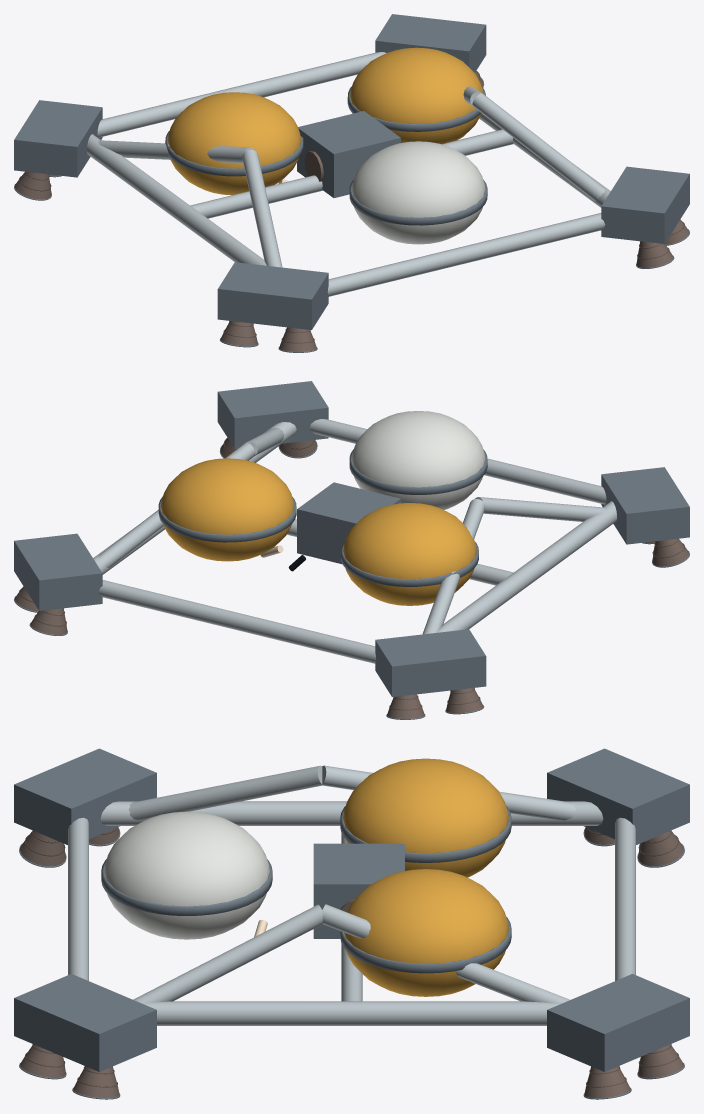
The model's file is mars_descent_stage.glb.
3 renders of one model, top to bottom at view 1: azimuth 30°, elevation 25°; view 2: azimuth 150°, elevation 25°; view 3: azimuth 270°, elevation 25°, orthographic. The views are drawn at different scales.
Visible parts, largest first — view 1: mars_descent_stage.aluminum_frame.mesh_Satin_aluminum, mars_descent_stage.propellant_tank_03.mesh_Pale_thermal_blan, mars_descent_stage.propellant_tank_01.mesh_Gold_thermal_insu, mars_descent_stage.propellant_tank_02.mesh_Gold_thermal_insu, mars_descent_stage.landing_engines_04.mesh_Machined_steel, mars_descent_stage.landing_engines_01.mesh_Machined_steel, mars_descent_stage.landing_engines_03.mesh_Machined_steel, mars_descent_stage.winch.mesh_Machined_steel, mars_descent_stage.landing_engines_02.mesh_Machined_steel, mars_descent_stage.propellant_tank_03.mesh_Machined_steel, mars_descent_stage.propellant_tank_01.mesh_Machined_steel, mars_descent_stage.propellant_tank_02.mesh_Machined_steel (+4 smaller); view 2: mars_descent_stage.aluminum_frame.mesh_Satin_aluminum, mars_descent_stage.propellant_tank_02.mesh_Gold_thermal_insu, mars_descent_stage.propellant_tank_01.mesh_Gold_thermal_insu, mars_descent_stage.propellant_tank_03.mesh_Pale_thermal_blan, mars_descent_stage.landing_engines_03.mesh_Machined_steel, mars_descent_stage.landing_engines_02.mesh_Machined_steel, mars_descent_stage.landing_engines_04.mesh_Machined_steel, mars_descent_stage.landing_engines_01.mesh_Machined_steel, mars_descent_stage.winch.mesh_Machined_steel, mars_descent_stage.propellant_tank_02.mesh_Machined_steel, mars_descent_stage.propellant_tank_03.mesh_Machined_steel, mars_descent_stage.propellant_tank_01.mesh_Machined_steel (+4 smaller); view 3: mars_descent_stage.aluminum_frame.mesh_Satin_aluminum, mars_descent_stage.propellant_tank_03.mesh_Pale_thermal_blan, mars_descent_stage.propellant_tank_02.mesh_Gold_thermal_insu, mars_descent_stage.propellant_tank_01.mesh_Gold_thermal_insu, mars_descent_stage.landing_engines_01.mesh_Machined_steel, mars_descent_stage.landing_engines_02.mesh_Machined_steel, mars_descent_stage.landing_engines_03.mesh_Machined_steel, mars_descent_stage.landing_engines_04.mesh_Machined_steel, mars_descent_stage.winch.mesh_Machined_steel, mars_descent_stage.propellant_tank_03.mesh_Machined_steel, mars_descent_stage.propellant_tank_02.mesh_Machined_steel, mars_descent_stage.propellant_tank_01.mesh_Machined_steel (+6 smaller).
Boxes of the visible parts, <box> form: mars_descent_stage.aluminum_frame.mesh_Satin_aluminum: <box>86,52,610,296</box>; mars_descent_stage.propellant_tank_03.mesh_Pale_thermal_blan: <box>351,141,485,244</box>; mars_descent_stage.propellant_tank_01.mesh_Gold_thermal_insu: <box>167,92,301,195</box>; mars_descent_stage.propellant_tank_02.mesh_Gold_thermal_insu: <box>350,47,483,144</box>; mars_descent_stage.landing_engines_04.mesh_Machined_steel: <box>217,262,328,329</box>; mars_descent_stage.landing_engines_01.mesh_Machined_steel: <box>601,166,689,243</box>; mars_descent_stage.landing_engines_03.mesh_Machined_steel: <box>14,100,102,177</box>; mars_descent_stage.winch.mesh_Machined_steel: <box>297,111,400,197</box>; mars_descent_stage.landing_engines_02.mesh_Machined_steel: <box>375,14,486,72</box>; mars_descent_stage.propellant_tank_03.mesh_Machined_steel: <box>349,179,487,225</box>; mars_descent_stage.propellant_tank_01.mesh_Machined_steel: <box>165,131,303,176</box>; mars_descent_stage.propellant_tank_02.mesh_Machined_steel: <box>347,86,485,131</box>; mars_descent_stage.aluminum_frame.mesh_Satin_aluminum: <box>93,419,617,663</box>; mars_descent_stage.propellant_tank_02.mesh_Gold_thermal_insu: <box>160,458,294,561</box>; mars_descent_stage.propellant_tank_01.mesh_Gold_thermal_insu: <box>343,503,476,605</box>; mars_descent_stage.propellant_tank_03.mesh_Pale_thermal_blan: <box>351,411,485,509</box>; mars_descent_stage.landing_engines_03.mesh_Machined_steel: <box>375,629,486,696</box>; mars_descent_stage.landing_engines_02.mesh_Machined_steel: <box>14,533,102,610</box>; mars_descent_stage.landing_engines_04.mesh_Machined_steel: <box>601,467,689,544</box>; mars_descent_stage.landing_engines_01.mesh_Machined_steel: <box>217,381,328,448</box>; mars_descent_stage.winch.mesh_Machined_steel: <box>297,482,400,564</box>; mars_descent_stage.propellant_tank_02.mesh_Machined_steel: <box>158,496,296,542</box>; mars_descent_stage.propellant_tank_03.mesh_Machined_steel: <box>349,449,487,494</box>; mars_descent_stage.propellant_tank_01.mesh_Machined_steel: <box>341,541,478,586</box>; mars_descent_stage.aluminum_frame.mesh_Satin_aluminum: <box>68,765,635,1025</box>; mars_descent_stage.propellant_tank_03.mesh_Pale_thermal_blan: <box>104,811,269,939</box>; mars_descent_stage.propellant_tank_02.mesh_Gold_thermal_insu: <box>344,869,508,996</box>; mars_descent_stage.propellant_tank_01.mesh_Gold_thermal_insu: <box>343,758,508,877</box>; mars_descent_stage.landing_engines_01.mesh_Machined_steel: <box>14,974,156,1071</box>; mars_descent_stage.landing_engines_02.mesh_Machined_steel: <box>547,974,689,1071</box>; mars_descent_stage.landing_engines_03.mesh_Machined_steel: <box>547,748,689,844</box>; mars_descent_stage.landing_engines_04.mesh_Machined_steel: <box>14,748,156,844</box>; mars_descent_stage.winch.mesh_Machined_steel: <box>313,843,404,938</box>; mars_descent_stage.propellant_tank_03.mesh_Machined_steel: <box>101,859,272,915</box>; mars_descent_stage.propellant_tank_02.mesh_Machined_steel: <box>340,917,511,973</box>; mars_descent_stage.propellant_tank_01.mesh_Machined_steel: <box>340,806,511,862</box>.
Size of the model in its own units: 2.74 by 0.6514 by 2.74.
